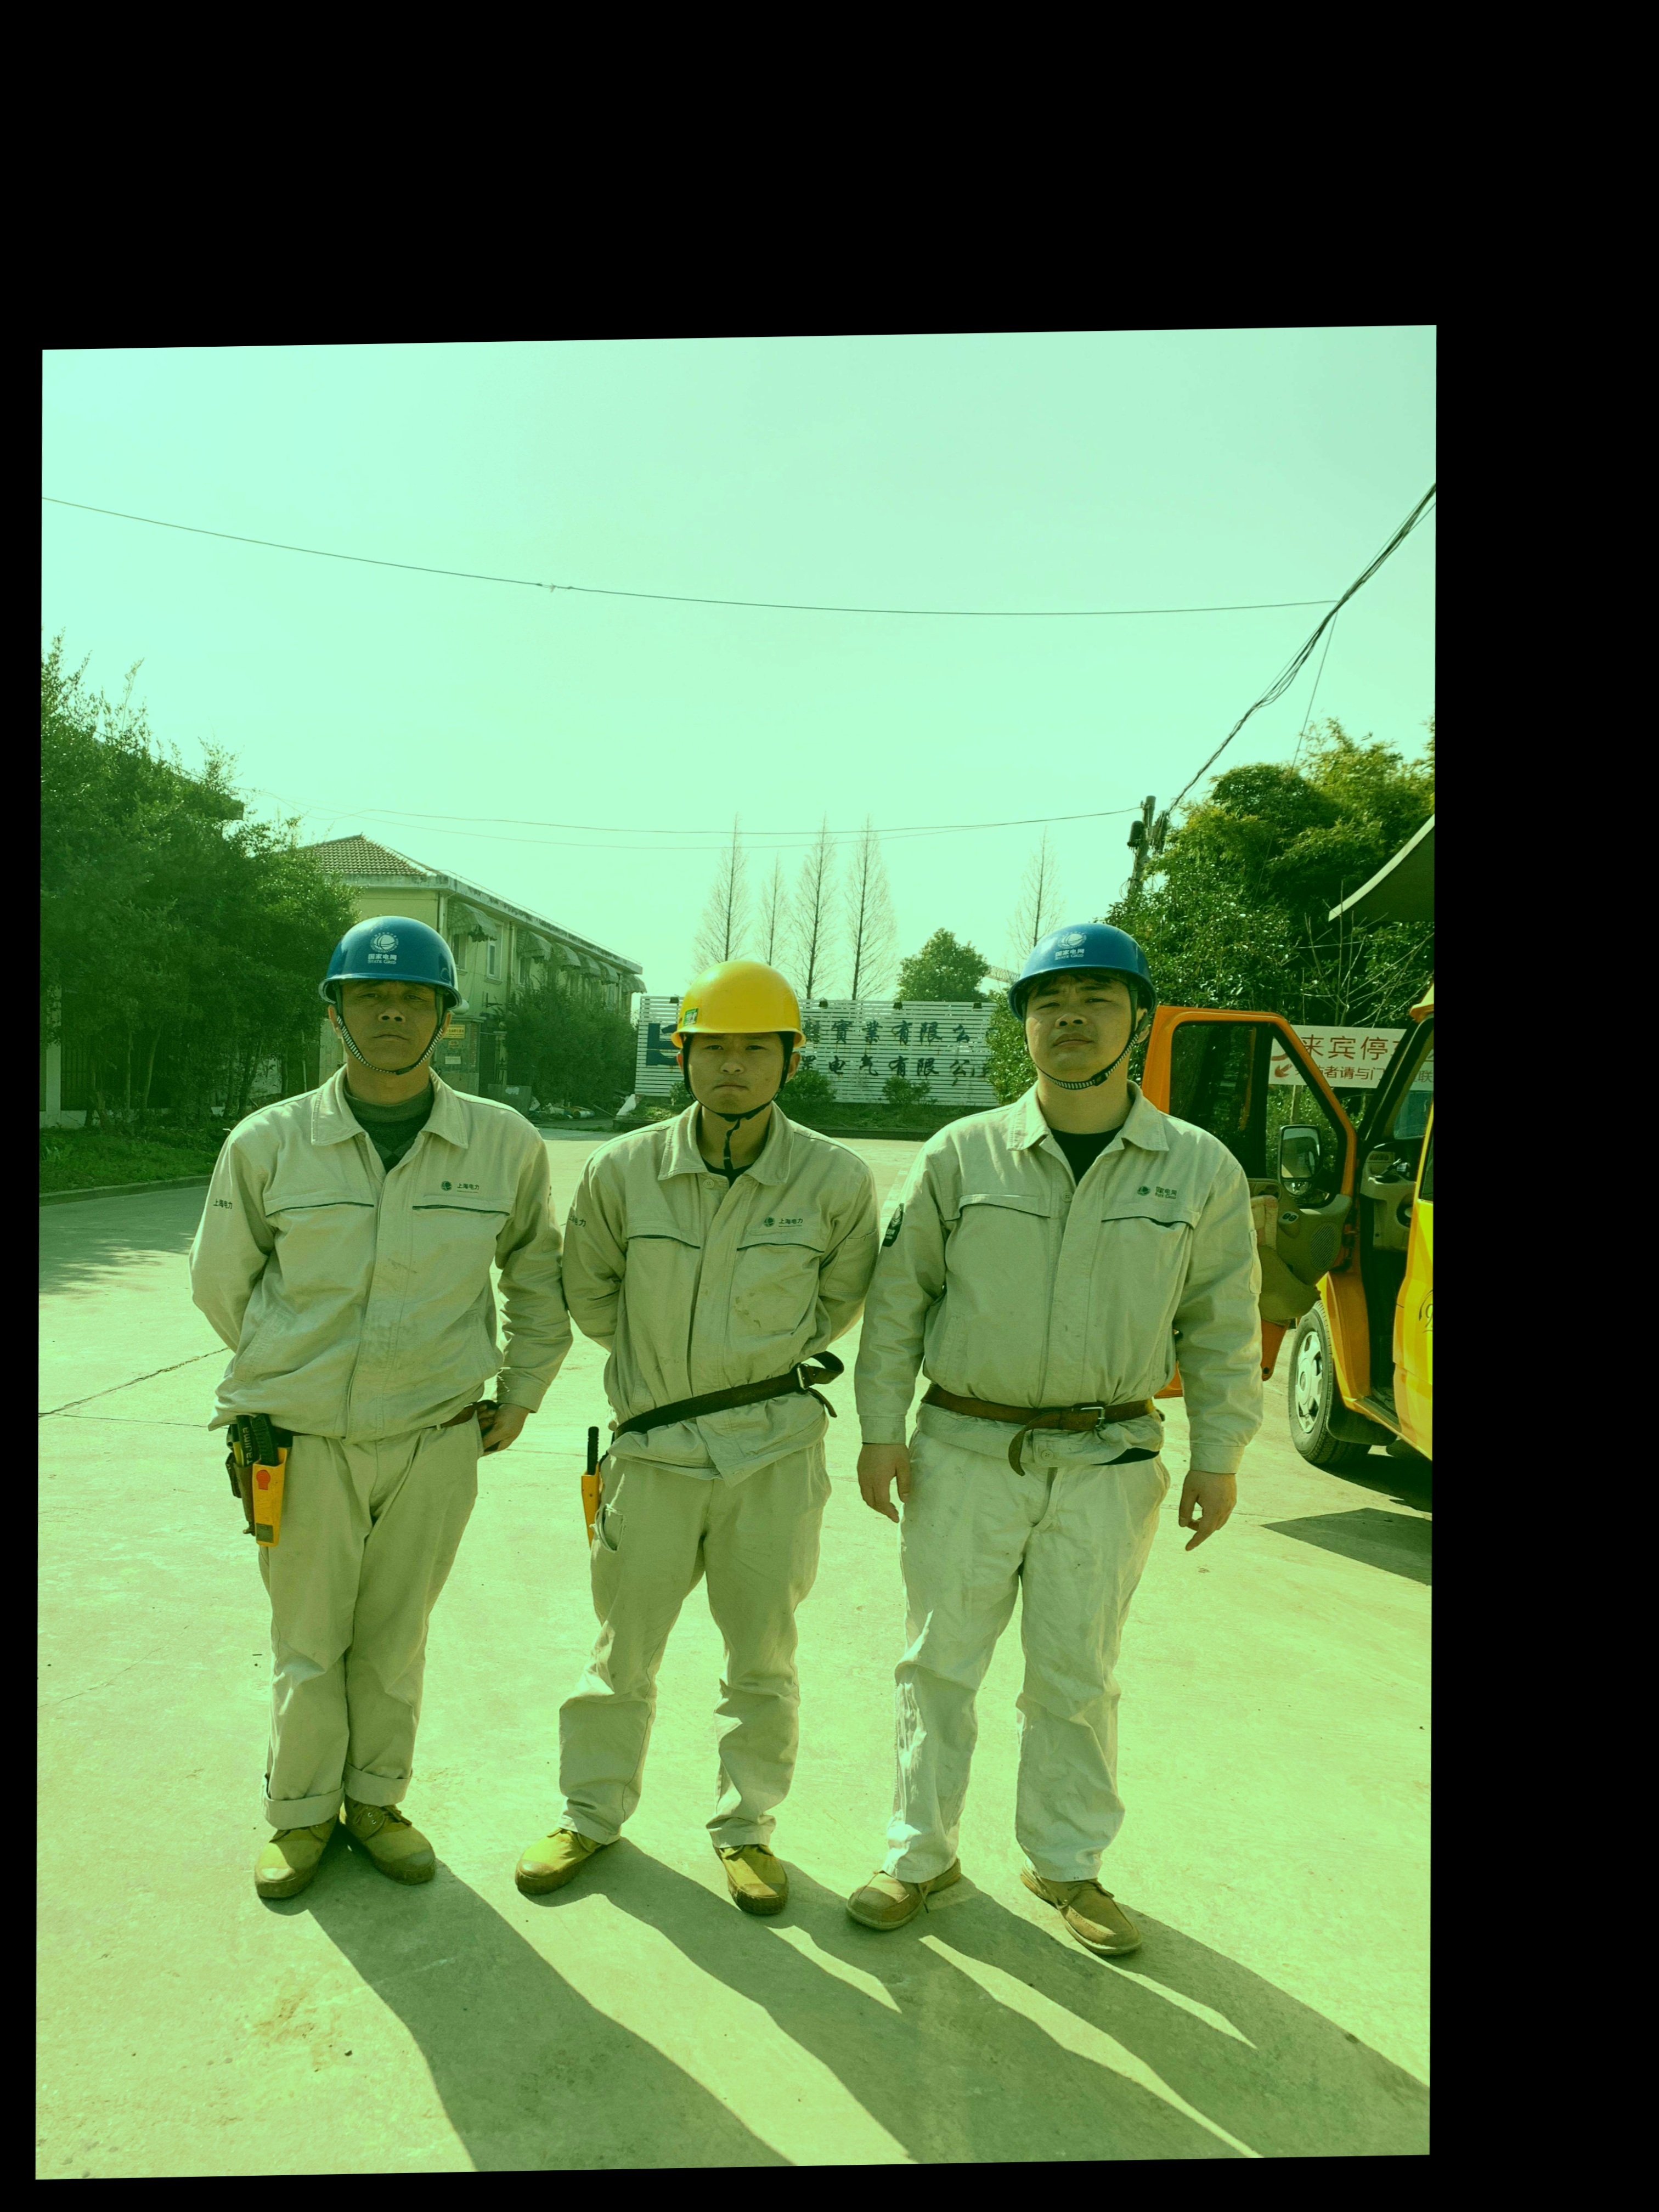helmet: (998, 923, 1177, 1078), (663, 954, 818, 1116), (314, 915, 470, 1069)
person: (815, 927, 1290, 1962), (162, 911, 585, 1908), (493, 958, 903, 1921)
